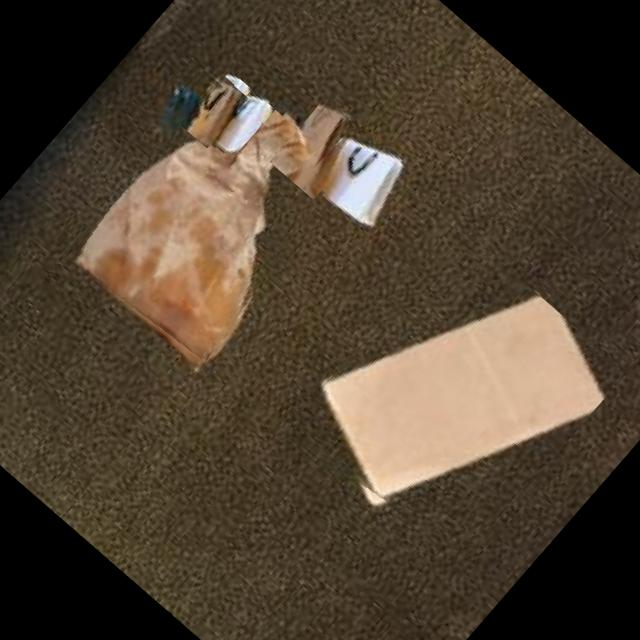PaperCardboard: (327, 294, 605, 496), (75, 100, 291, 357), (323, 138, 398, 225), (289, 104, 345, 199), (190, 81, 244, 147), (217, 94, 271, 148)
